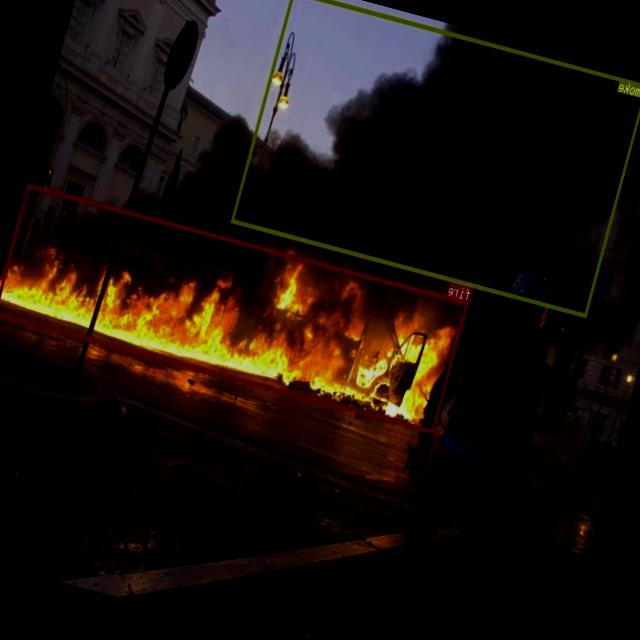fire: (0, 183, 469, 432)
smoke: (231, 0, 640, 317)
